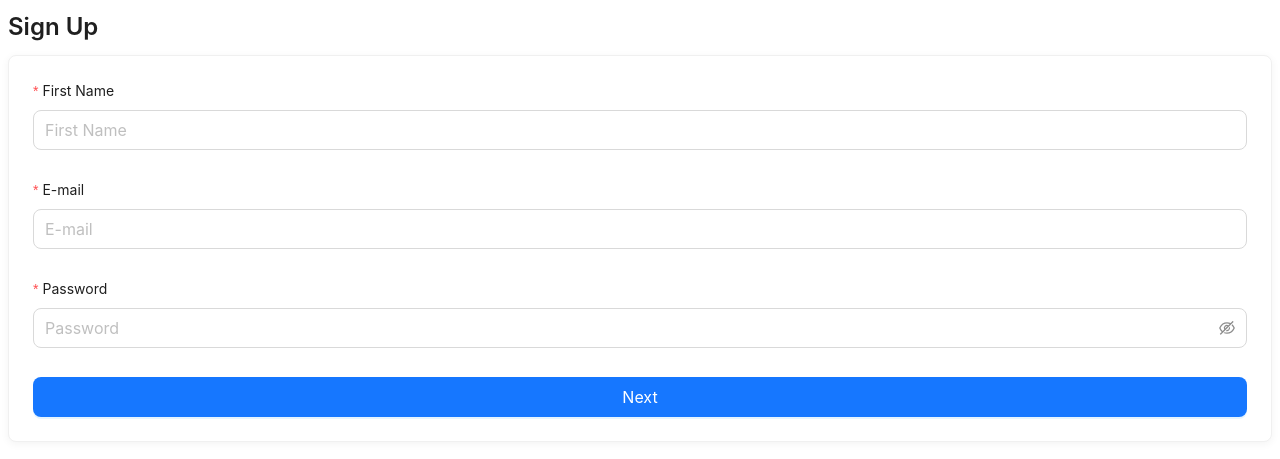
UserData page › Form validations › should not submit form when email is empty
Type "Upgrade" into the field with test id "first-name-input".
click(640, 130); type("Upgrade")  # box x1=33 y1=110 x2=1247 y2=150
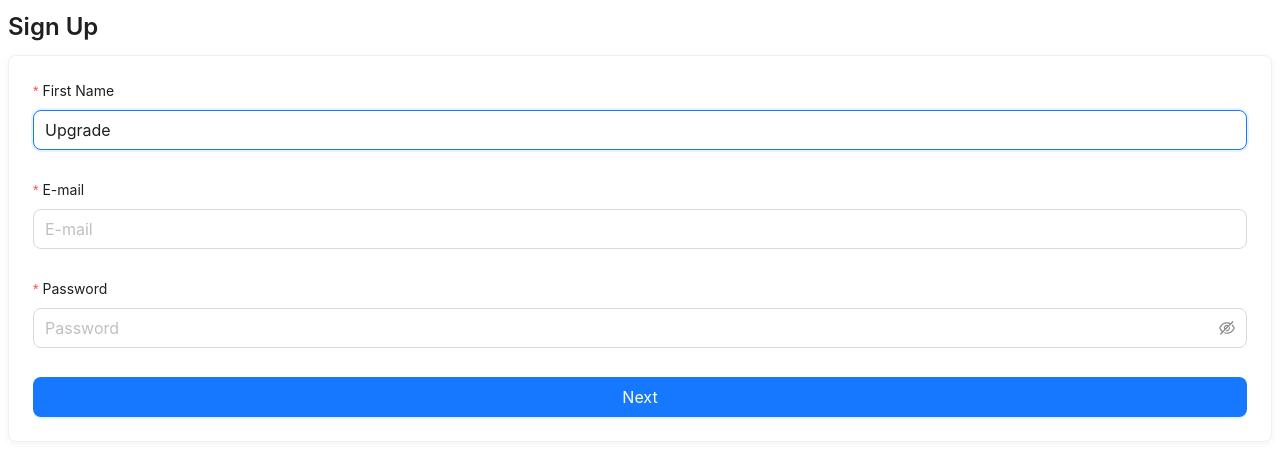
Type "password123" into the password field with test id "password-input".
click(630, 328); type("password123")  # box x1=45 y1=316 x2=1215 y2=340
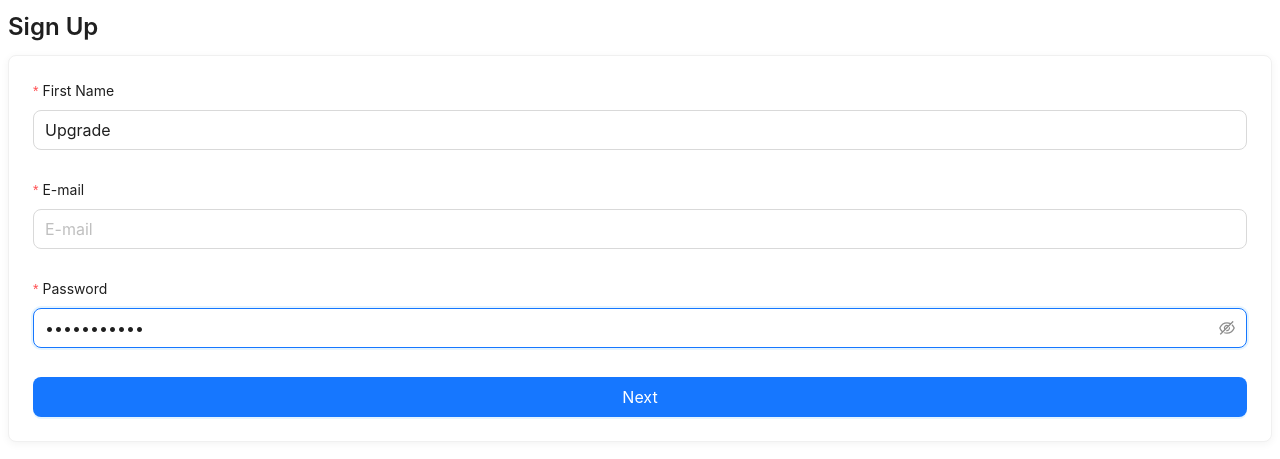
Click the button with test id "submit-button".
click(640, 397)  # box x1=33 y1=377 x2=1247 y2=417
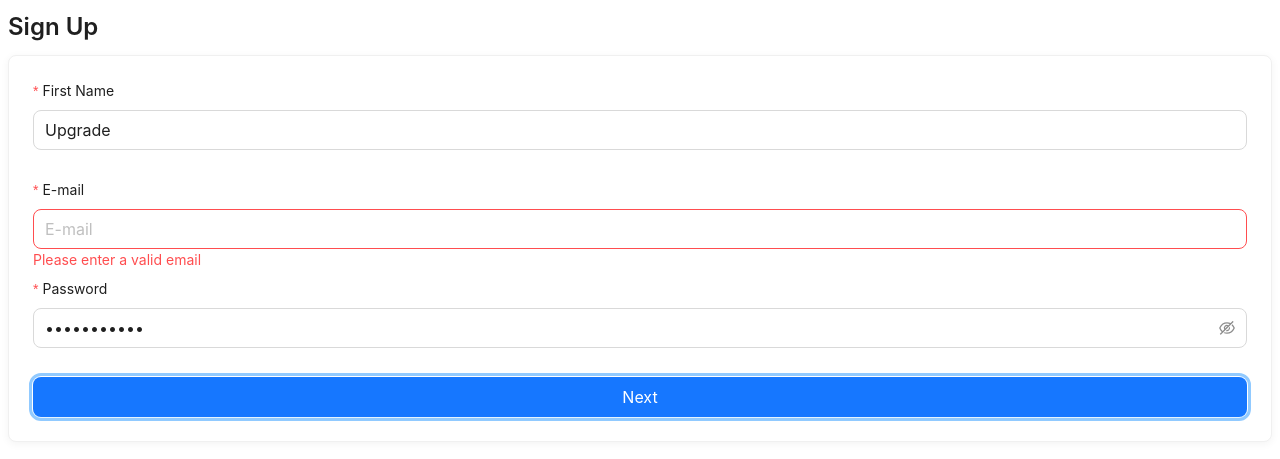
Now the text "Please enter a valid email" is shown, box x1=33 y1=251 x2=201 y2=268
